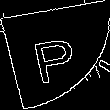P_N: (28, 26, 82, 84)
